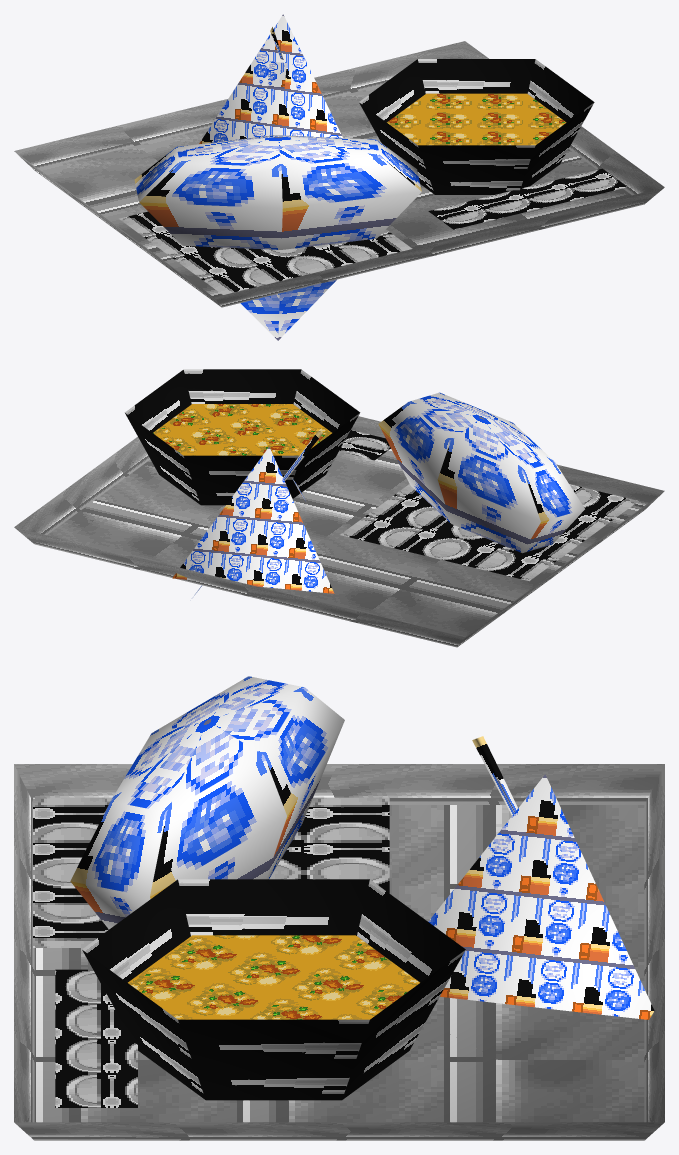
File: 3389imig18_11.gltf
3 renders of one model, top to bottom at view 1: azimuth 30°, elevation 25°; view 2: azimuth 150°, elevation 25°; view 3: azimuth 270°, elevation 25°, orthographic. The views are drawn at different scales.
Visible parts, largest first — view 1: 3389imig18_11; view 2: 3389imig18_11; view 3: 3389imig18_11.
Part boxes in pixels (x1=…): 3389imig18_11: x1=14, y1=14, x2=664, y2=340; 3389imig18_11: x1=14, y1=369, x2=664, y2=647; 3389imig18_11: x1=14, y1=676, x2=664, y2=1140.
Bounding box in the file's own units: 0.856 × 0.4231 × 0.6572.
4 materials, 4 textured.
